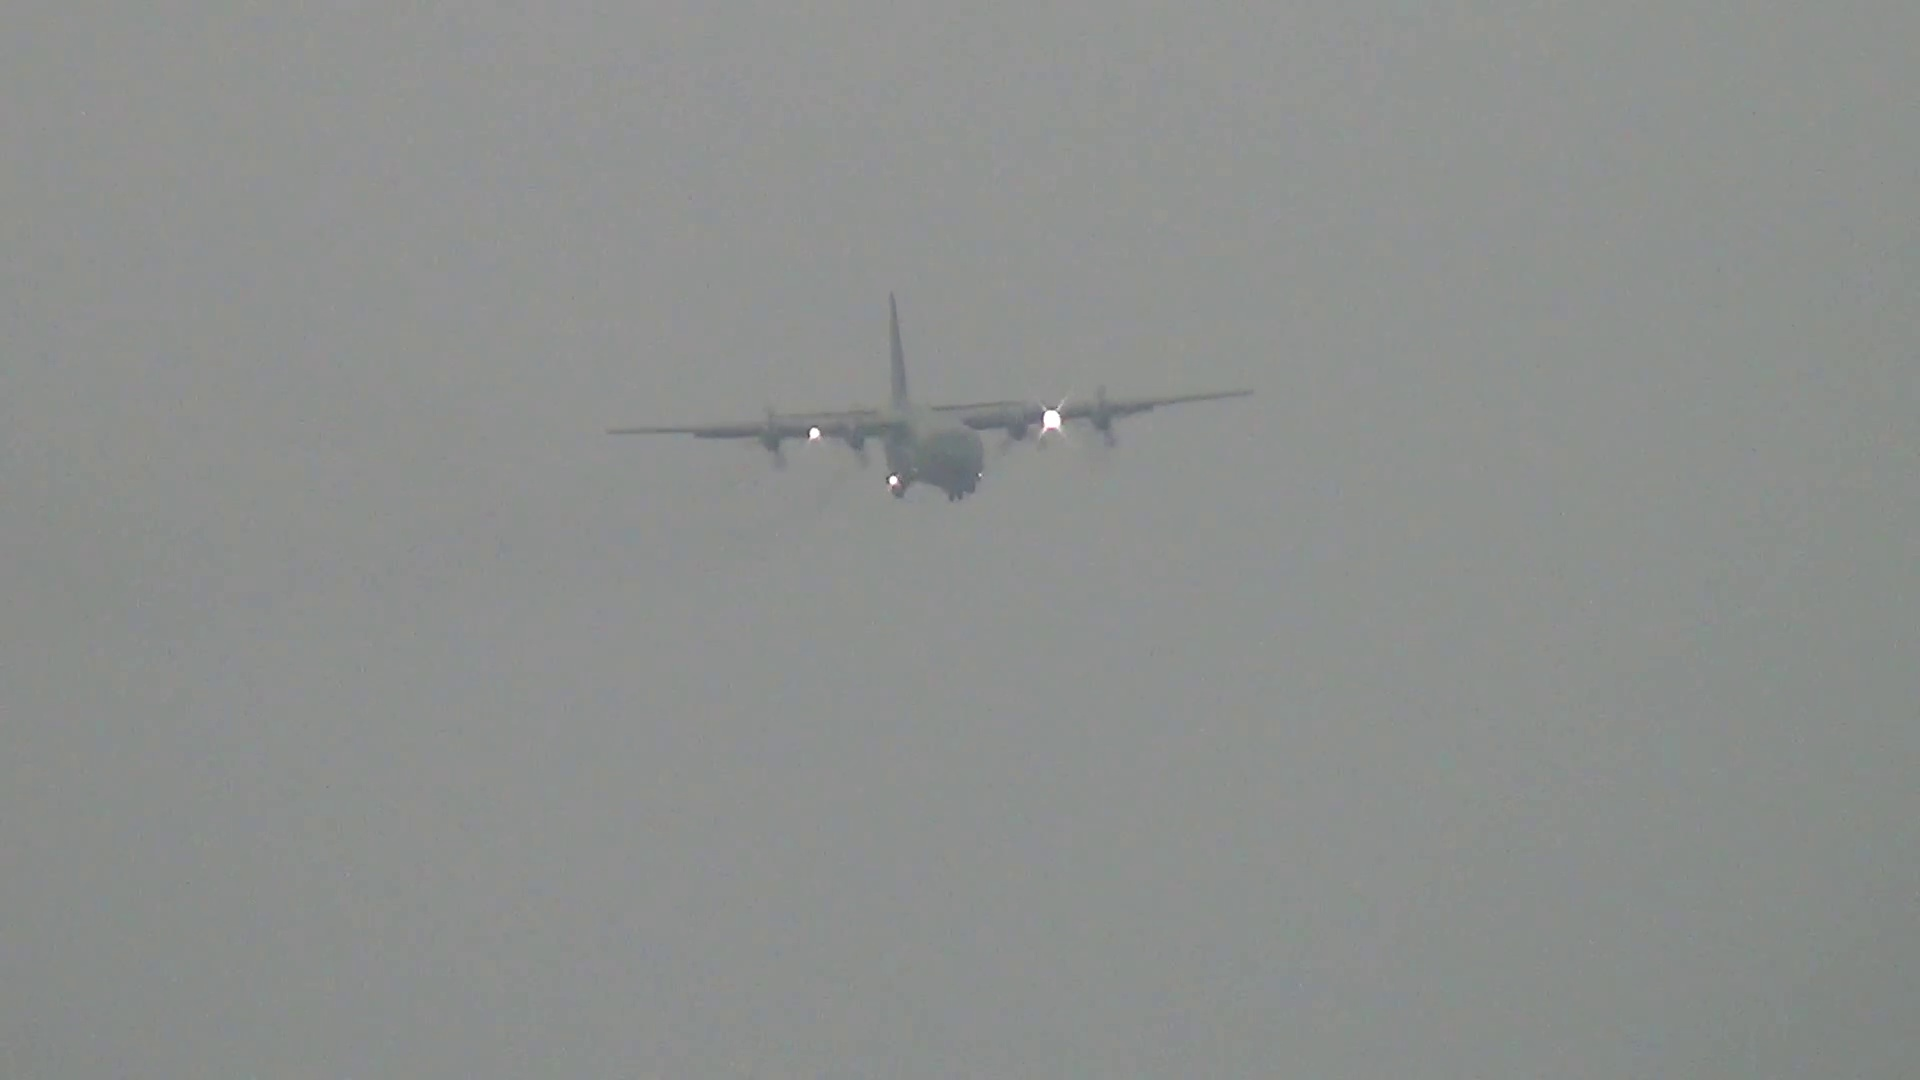Airplane: (611, 301, 1265, 502)
